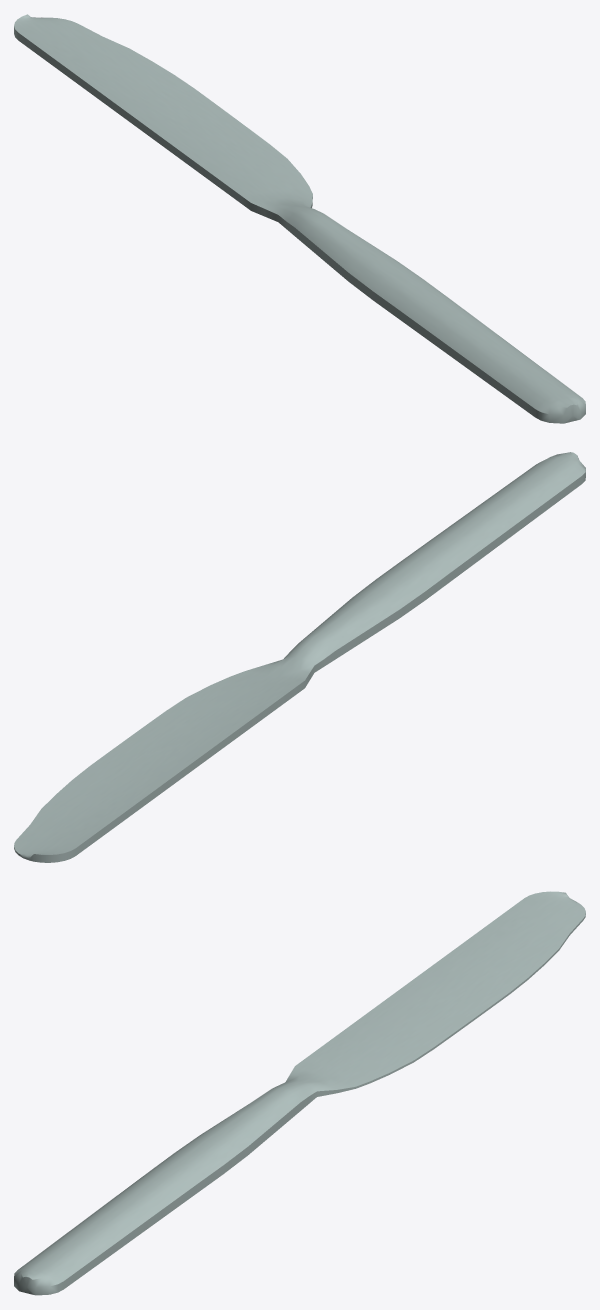
The model's file is 09_Dinner_Knife.fbx.
3 views of the same model, one above another, from view 1: azimuth 30°, elevation 25°; view 2: azimuth 150°, elevation 25°; view 3: azimuth 330°, elevation 25° (orthographic).
Visible parts, largest first — view 1: 09_Dinner_Knife_Mesh.001; view 2: 09_Dinner_Knife_Mesh.001; view 3: 09_Dinner_Knife_Mesh.001.
Boxes of the visible parts, x1=… form: 09_Dinner_Knife_Mesh.001: x1=14, y1=14, x2=585, y2=423; 09_Dinner_Knife_Mesh.001: x1=14, y1=452, x2=585, y2=862; 09_Dinner_Knife_Mesh.001: x1=14, y1=891, x2=585, y2=1295.
Bounding box in the file's own units: 2.03 × 0.4347 × 23.63.
1 material, 1 textured.
